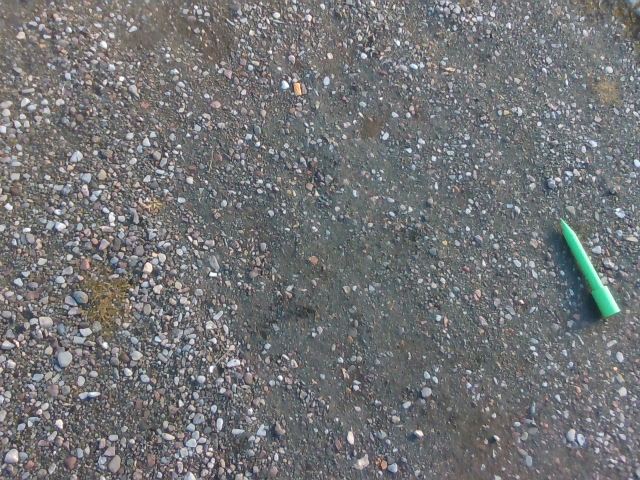Probe: (554, 211, 627, 325)
